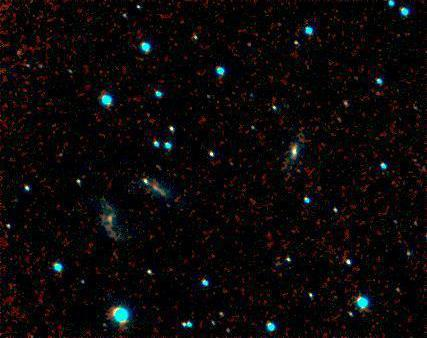star: (94, 18, 124, 48)
